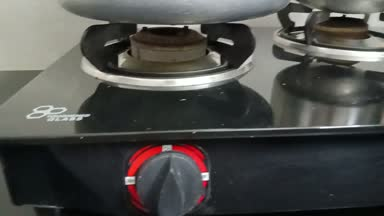noflame_gason: (112, 25, 224, 216)
